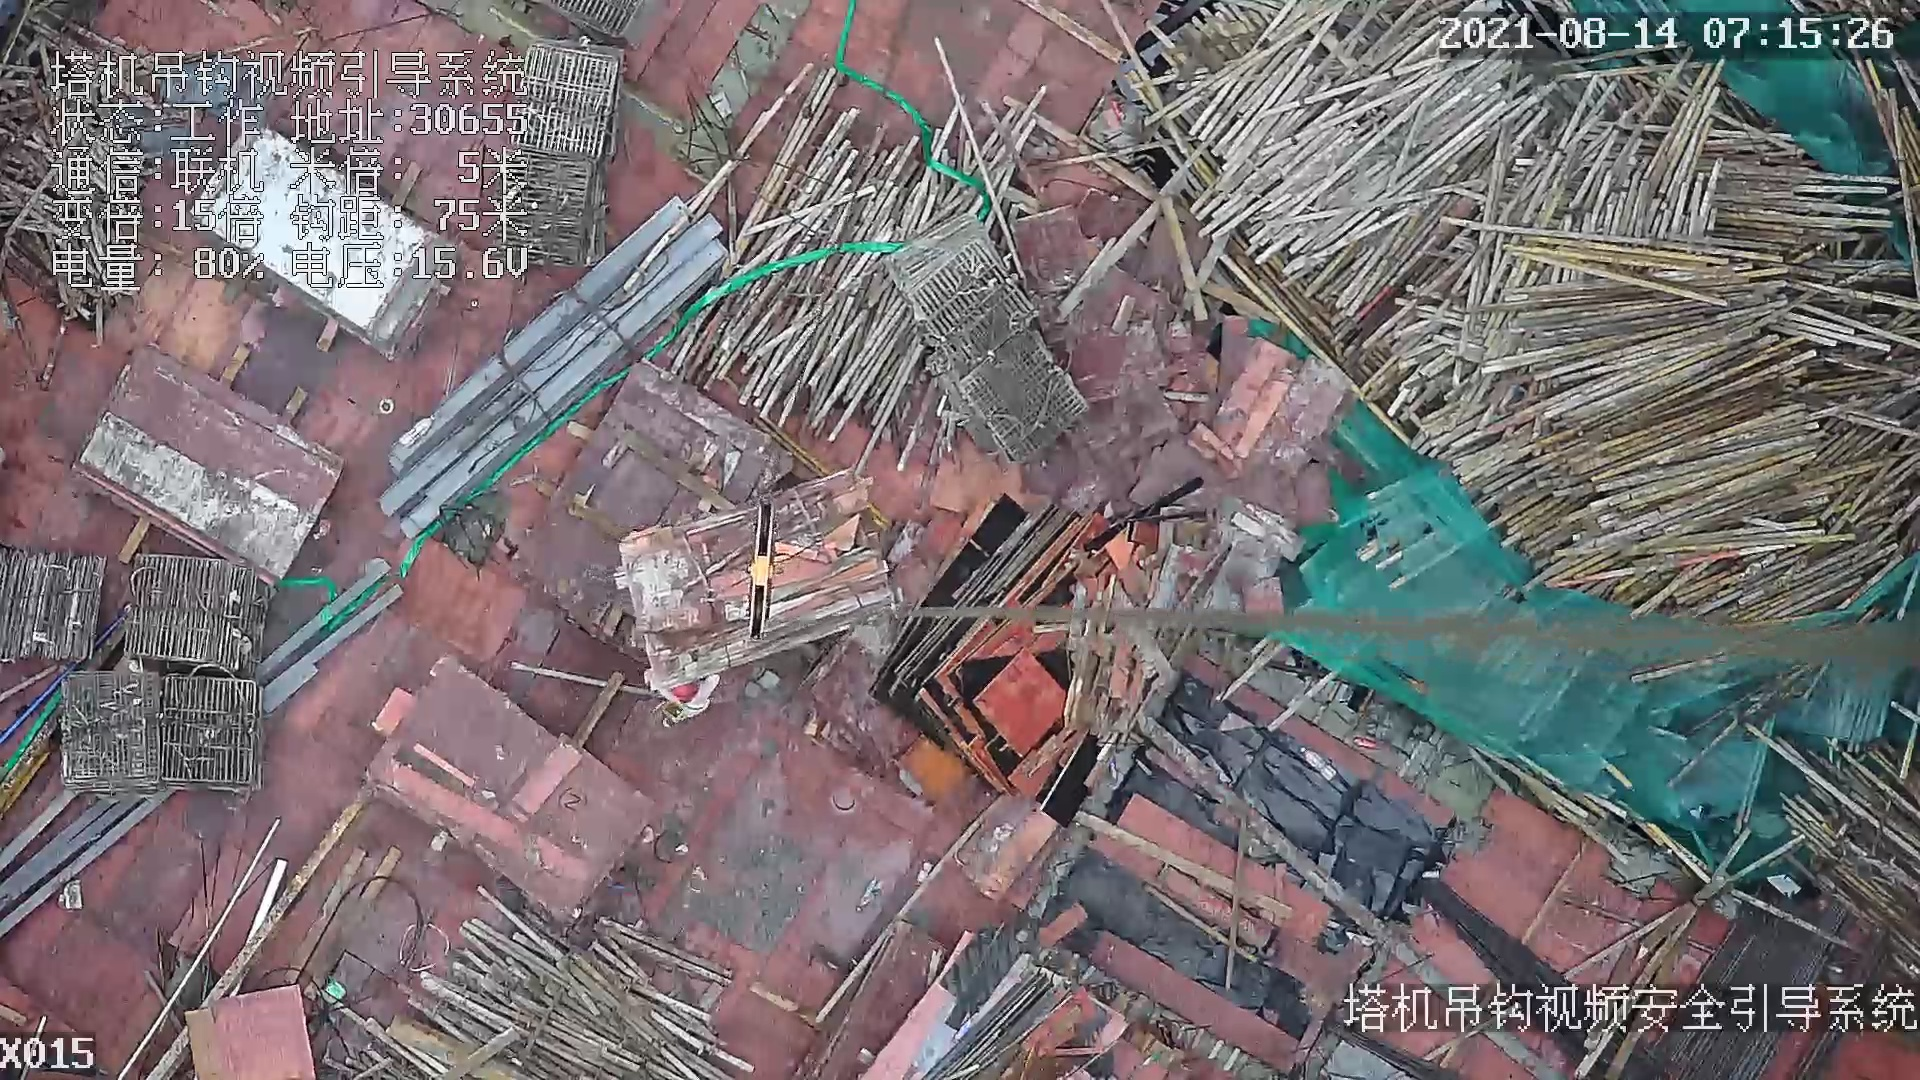helmet: (670, 685, 704, 705)
hook: (733, 499, 791, 646)
person: (640, 672, 722, 730)
